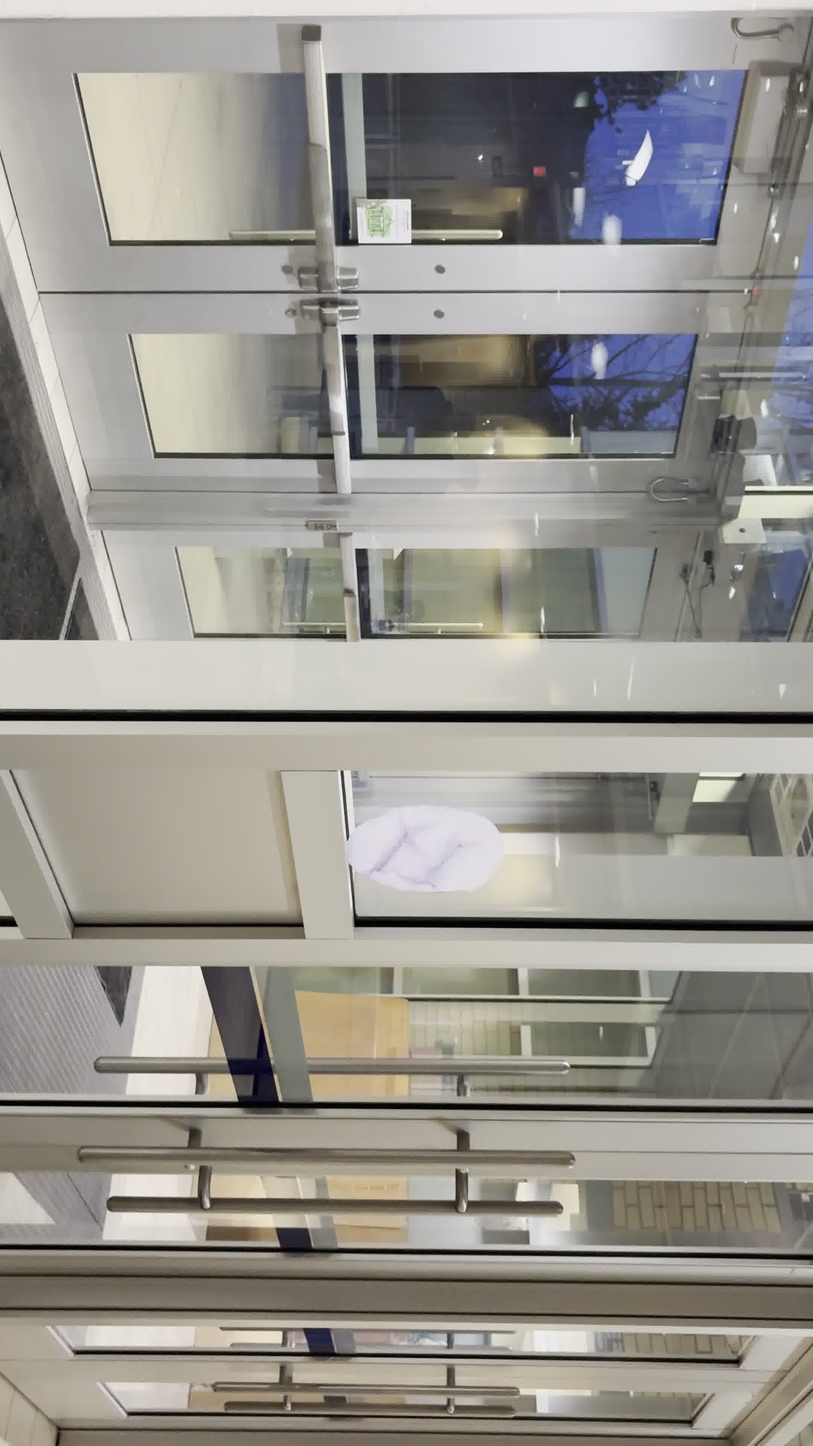Target: (340, 789, 508, 906)
